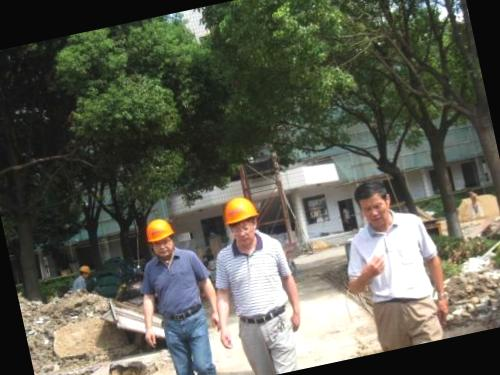no_helmet: (346, 172, 398, 232)
